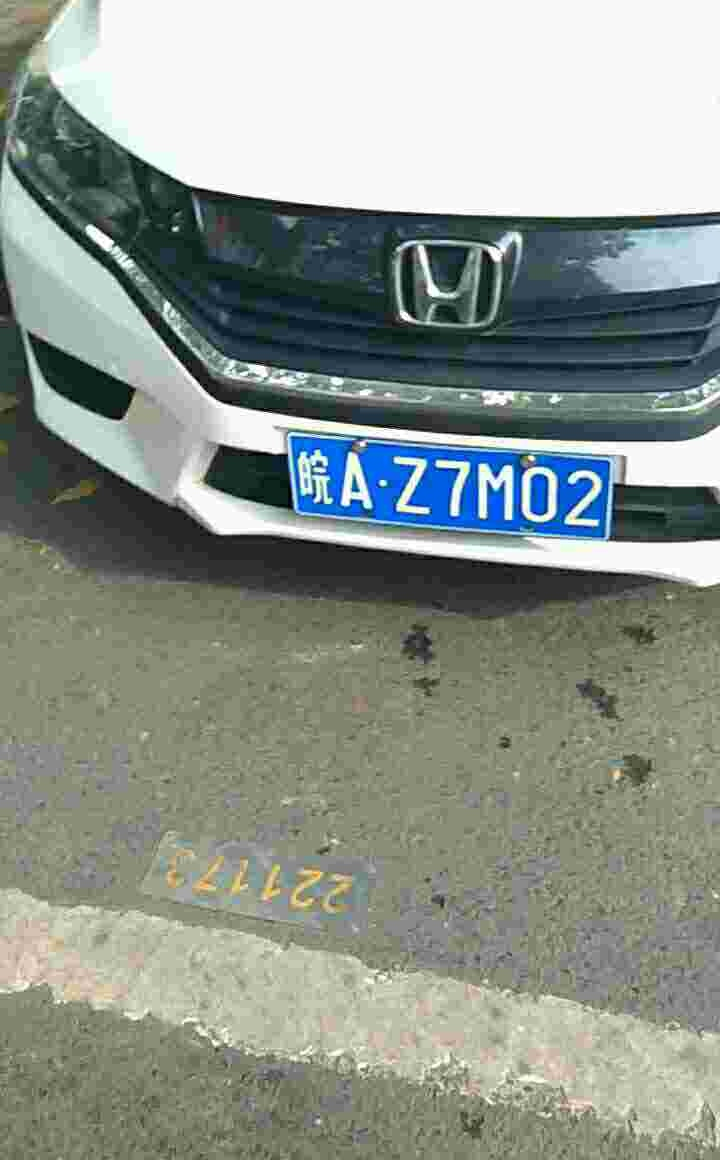license_plate: (290, 434, 614, 544)
